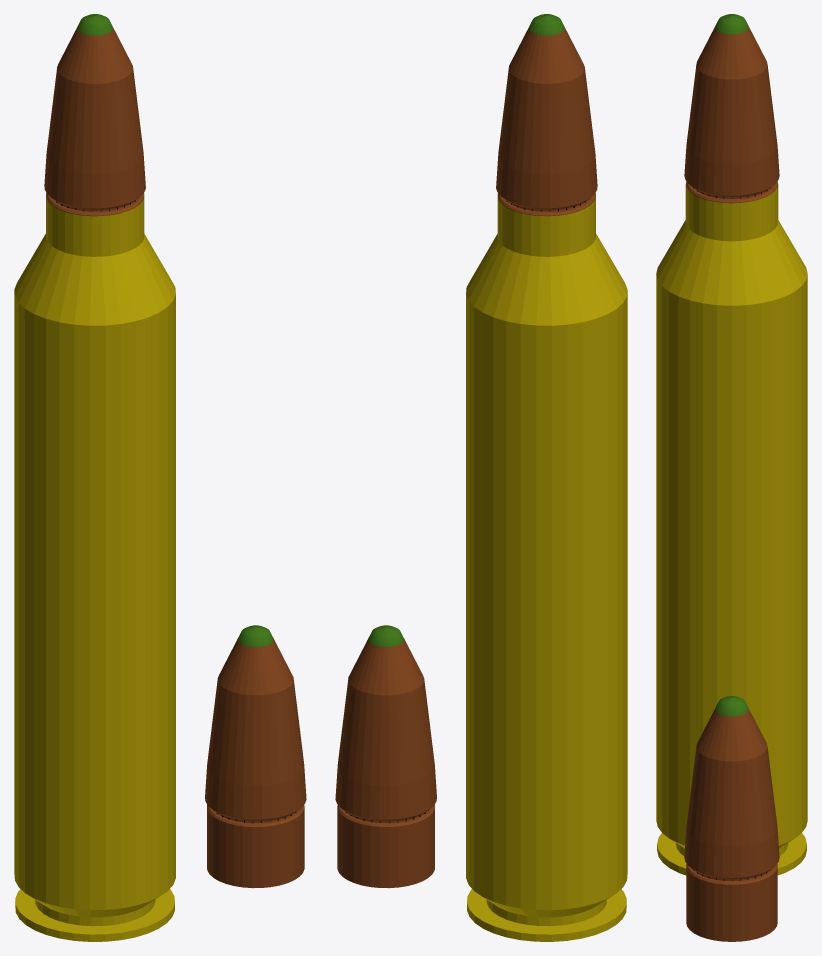
The model's file is 5_56_lowishpoly Bullet.fbx.
3 views of the same model, side by side, from view 1: azimuth 30°, elevation 25°; view 2: azimuth 150°, elevation 25°; view 3: azimuth 270°, elevation 25° (orthographic). The views are drawn at different scales.
Visible parts, largest first — view 1: Casing, Extra_Bullet, Bullet; view 2: Casing, Extra_Bullet, Bullet; view 3: Casing, Extra_Bullet, Bullet.
Boxes of the visible parts, x1,y1,x2,y2 form: Casing: [14, 193, 175, 941]; Extra_Bullet: [205, 625, 306, 888]; Bullet: [44, 14, 145, 216]; Casing: [466, 193, 627, 941]; Extra_Bullet: [335, 625, 436, 888]; Bullet: [496, 14, 597, 216]; Casing: [656, 181, 807, 875]; Extra_Bullet: [684, 696, 779, 941]; Bullet: [684, 14, 779, 203].
Bounding box in the file's own units: 54.19 × 168 × 27.64.
